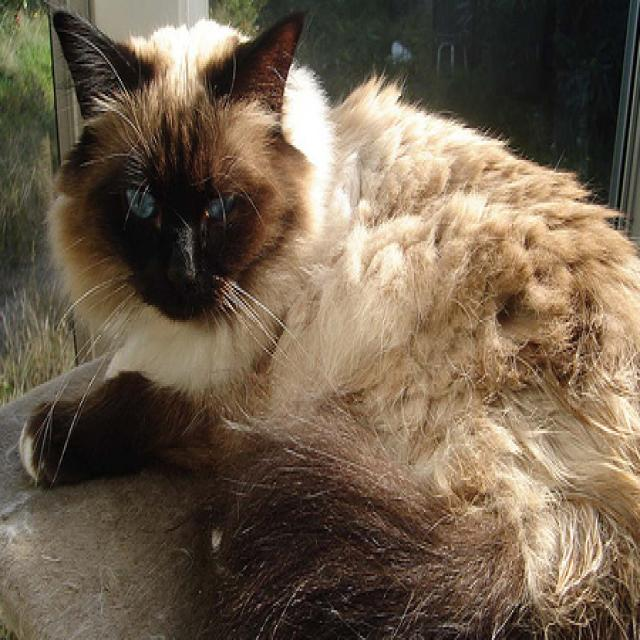Birman: (18, 0, 640, 640)
